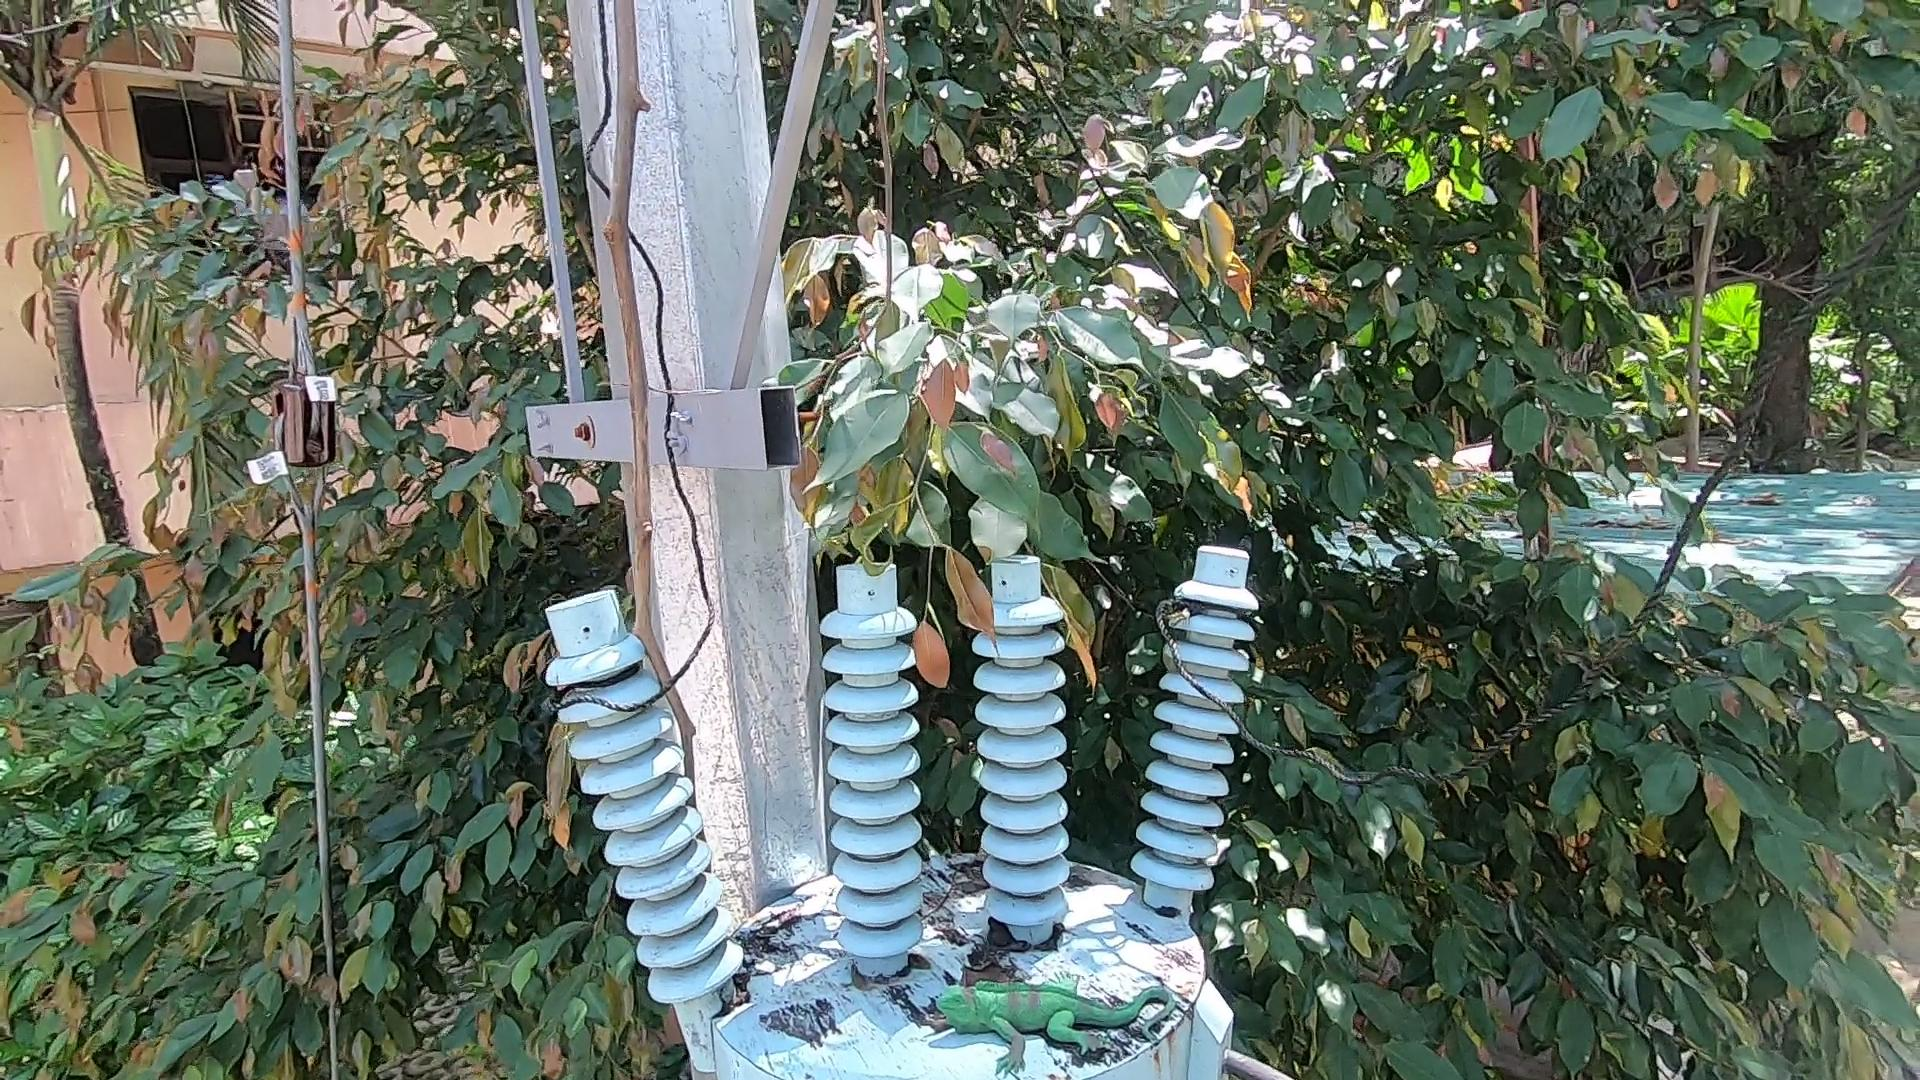branch with leaves: (793, 368, 1138, 719)
leaf: (961, 924, 1026, 989), (719, 986, 758, 1007)
tree branch: (570, 3, 754, 807)
